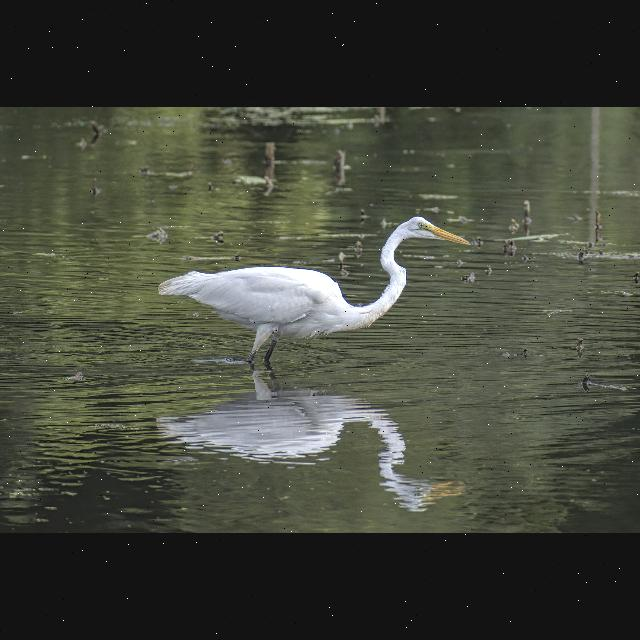egret: (151, 212, 473, 370)
